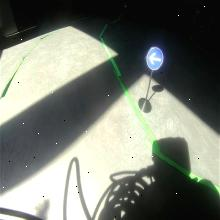left: (145, 45, 164, 70)
